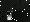person: (8, 9, 14, 20)
